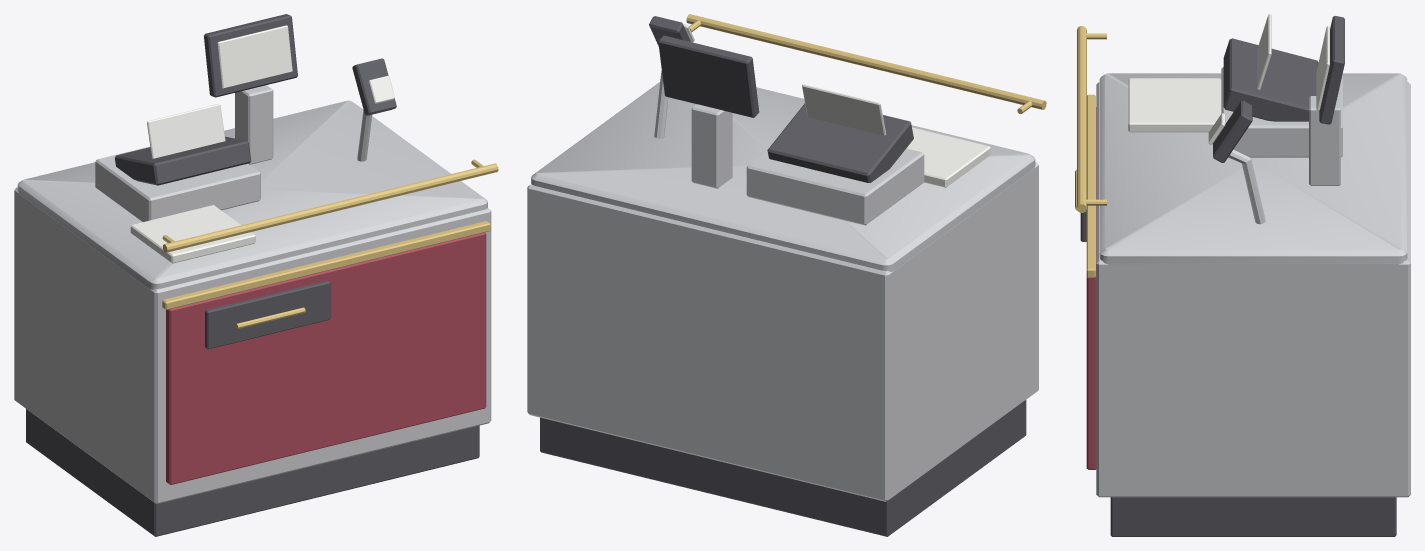
File: butchers-shop-and-deli-counter-till-counter-2c04f1bb__34426.glb
3 renders of one model, left to right at view 1: azimuth 30°, elevation 25°; view 2: azimuth 150°, elevation 25°; view 3: azimuth 270°, elevation 25°, orthographic. The views are drawn at different scales.
Parts seen in each view (by area): view 1: till-counter, till-drawer/dark; view 2: till-counter; view 3: till-counter.
Part boxes in pixels (box(x1,y1,x2,y2)): till-counter: box(14, 14, 498, 536); till-drawer/dark: box(205, 280, 330, 349); till-counter: box(527, 14, 1046, 536); till-counter: box(1077, 14, 1410, 536).
Size of the model in its own units: 1.2 by 1.33 by 0.939.
